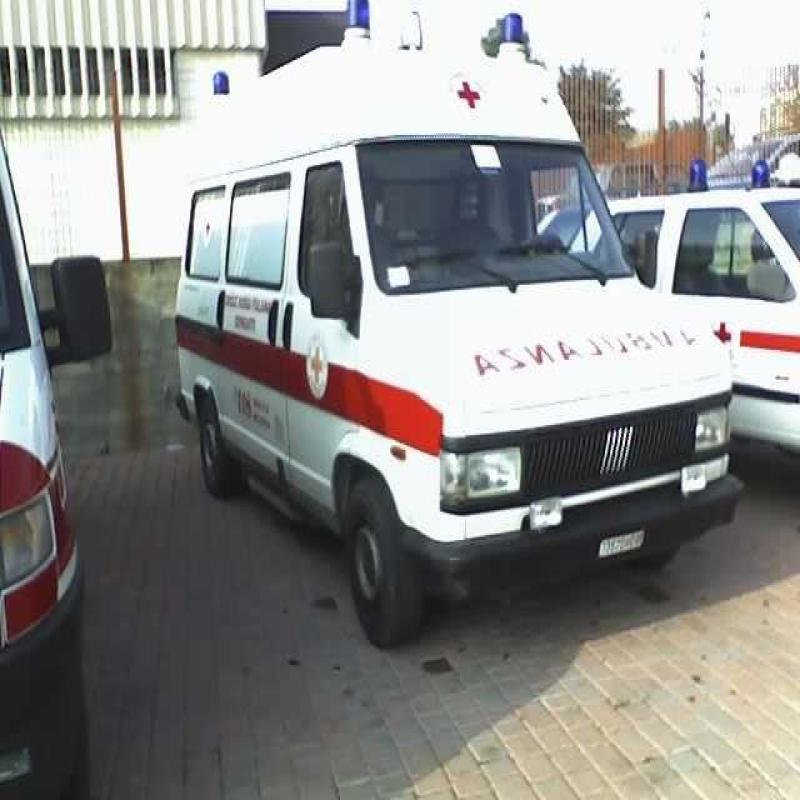AmbulanceSiren: (488, 5, 543, 62), (209, 58, 249, 118), (342, 0, 380, 47), (685, 152, 716, 209), (752, 152, 775, 207)
